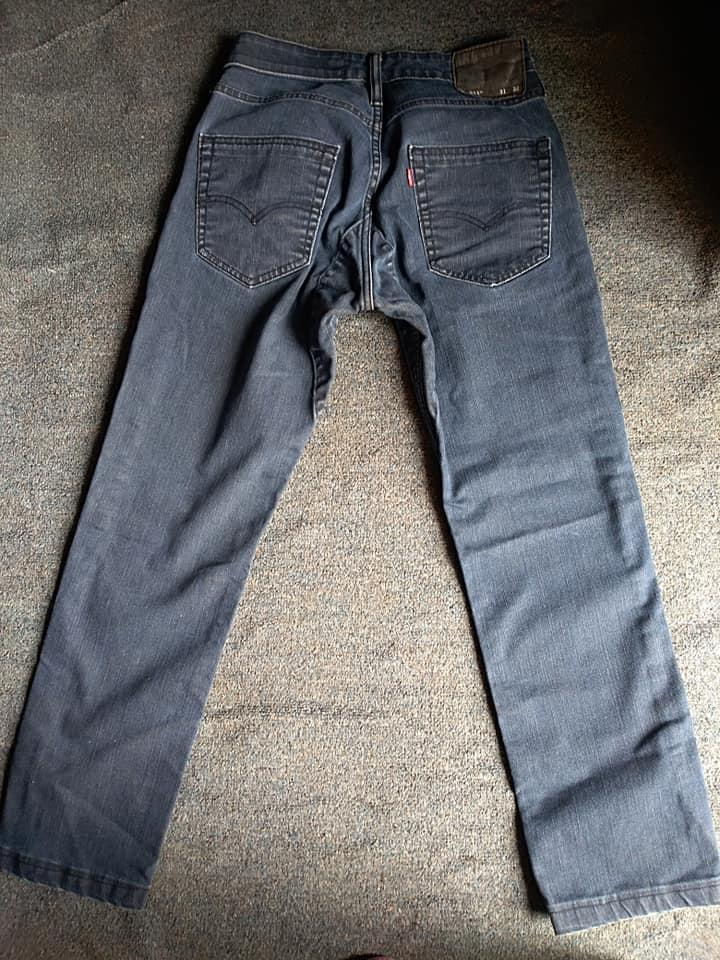Jeans: (0, 15, 720, 942)
